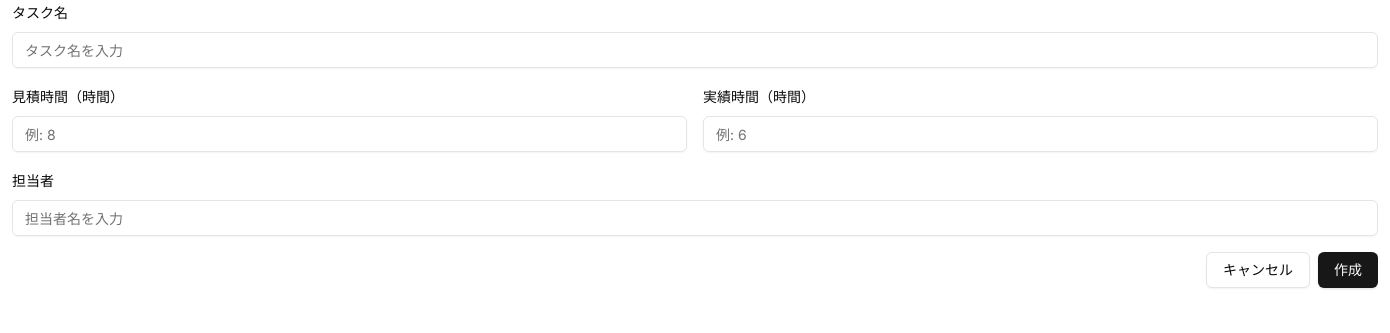
Test: WBSTaskForm › validates required fields
This screenshot has width=1390, height=333.
Step 1. Click the button "作成" → (1348, 270), box [1318, 252, 1378, 288]
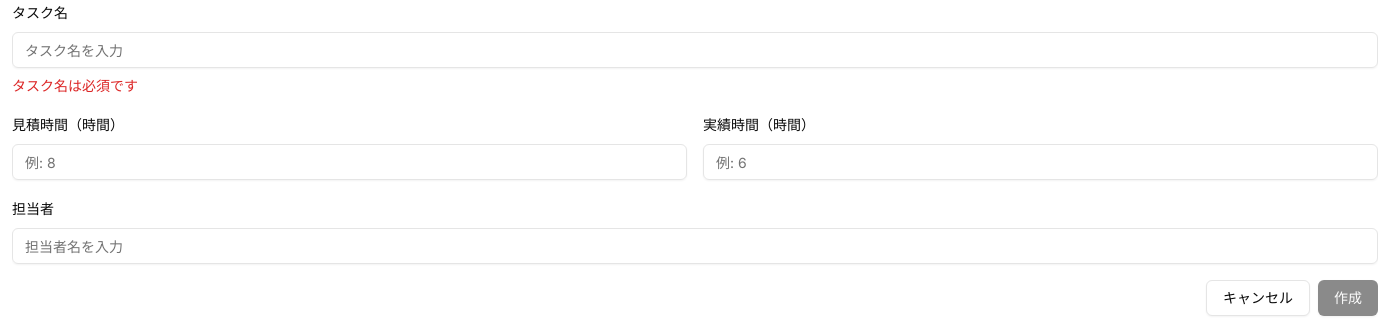
Result: the text "タスク名は必須です" is shown at [12, 77, 138, 94]
